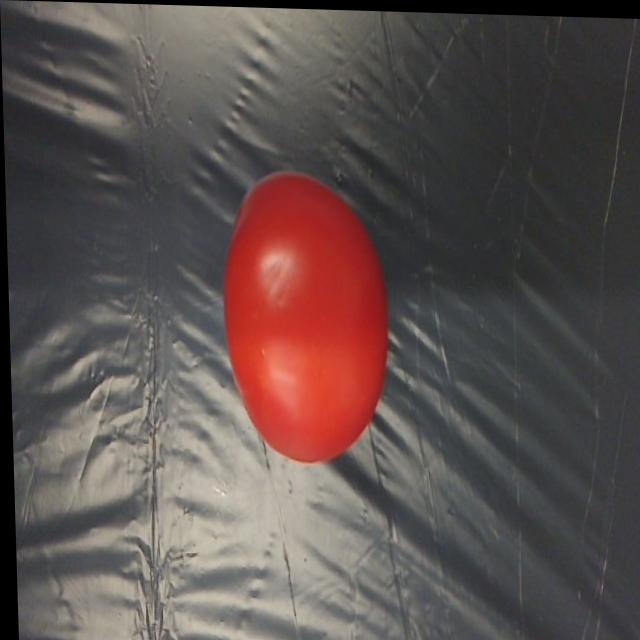kirmizi: (188, 153, 400, 480)
